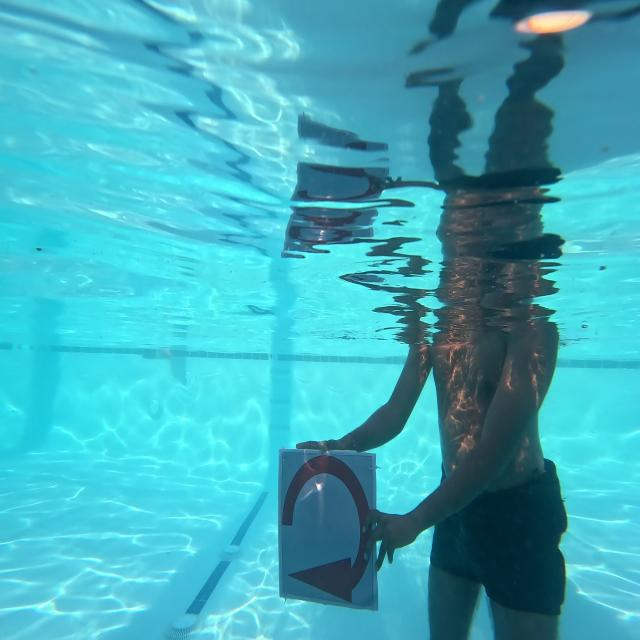red_side: (278, 448, 375, 608)
